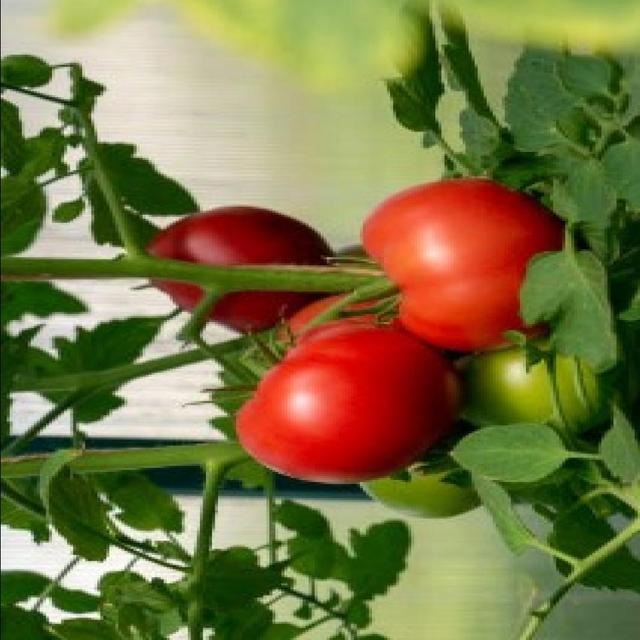Healthy Fruit: (115, 92, 314, 273)
